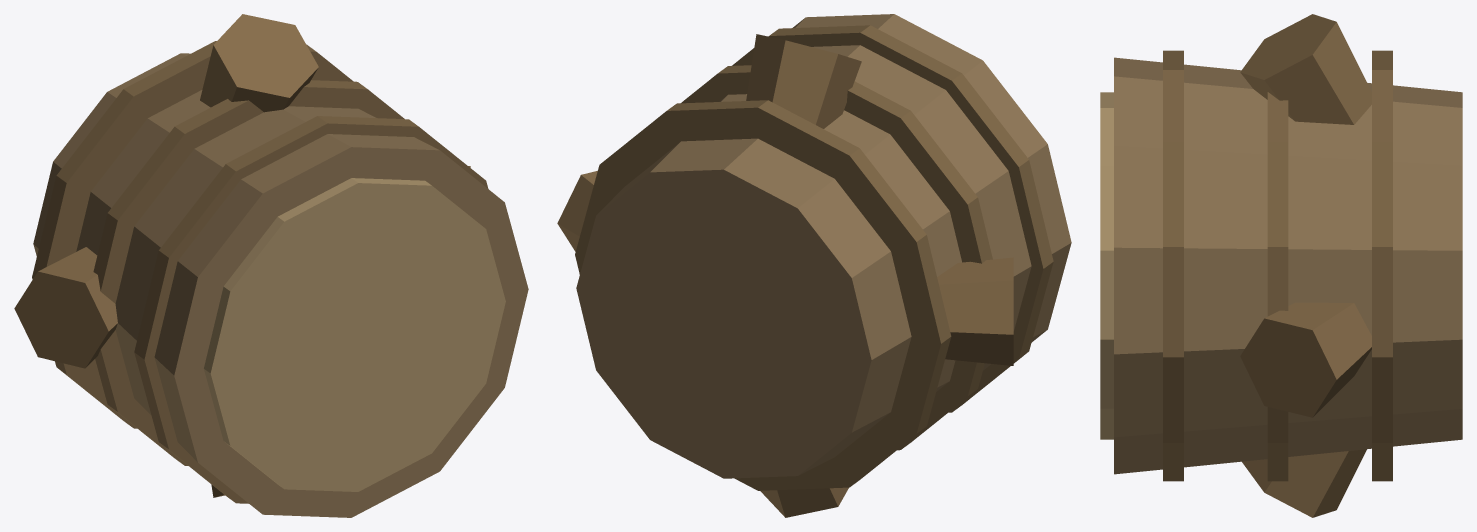
Rendered from tree_stump.glb.
3 views of the same model, side by side, from view 1: azimuth 30°, elevation 25°; view 2: azimuth 150°, elevation 25°; view 3: azimuth 270°, elevation 25° (orthographic). The views are drawn at different scales.
Parts seen in each view (by area): view 1: geometry_0; view 2: geometry_0; view 3: geometry_0.
Part boxes in pixels (x1,y1,x2,y2): geometry_0: [14, 14, 528, 517]; geometry_0: [557, 14, 1071, 517]; geometry_0: [1100, 14, 1462, 517].
Bounding box in the file's own units: 0.7728 × 0.7728 × 0.52.
